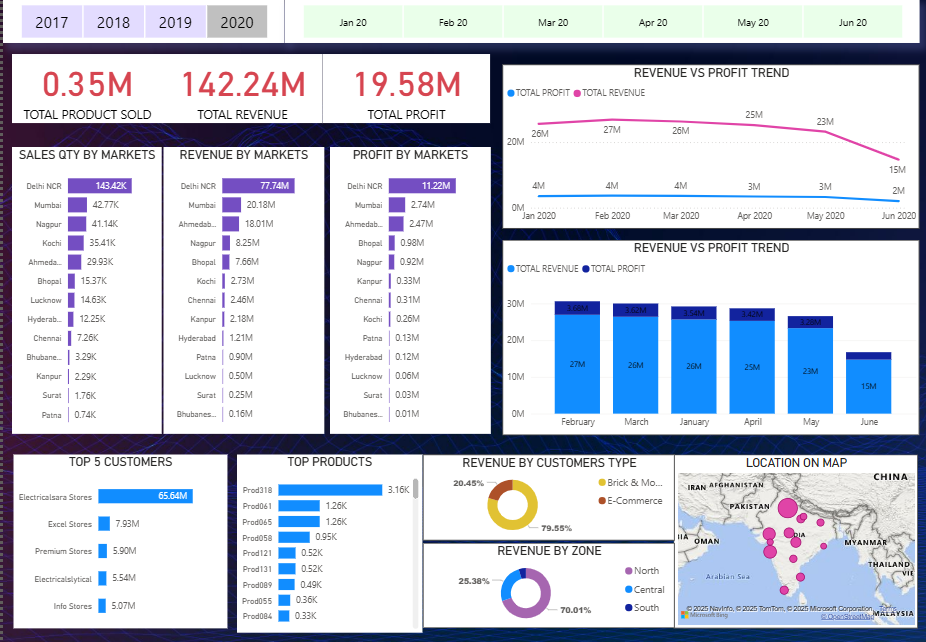

This screenshot's page, from the dashboard's own definition file:
{"tool":"powerbi","page":{"name":"Page 1","canvas":[1280,900],"ordinal":0},"visuals":[{"type":"card","fields":{"Values":["transactions_all.TOTAL PRODUCT SOLD"]},"box":[13,87.2,207.5,95.2],"z":0},{"type":"card","fields":{"Values":["transactions_all.TOTAL REVENUE"]},"box":[220.5,87.2,221.5,95.2],"z":1000},{"type":"card","fields":{"Values":["transactions_all.TOTAL PROFIT"]},"box":[442,87.2,231.5,95.2],"z":2000},{"type":"slicer","fields":{"Values":["transactions_all.year"]},"box":[0,13,388.9,59.1],"z":3000},{"type":"slicer","fields":{"Values":["transactions_all.cy_date"]},"box":[388.9,13,876.1,59.1],"z":4000},{"type":"barChart","title":"REVENUE BY MARKETS","fields":{"Category":["transactions_all.market_name"],"Y":["transactions_all.TOTAL REVENUE"]},"box":[220.8,215.4,221.8,395.9],"z":5000},{"type":"barChart","title":"SALES QTY BY MARKETS","fields":{"Category":["transactions_all.market_name"],"Y":["transactions_all.sales_qty"]},"box":[12.7,215.4,207,395.9],"z":6000},{"type":"barChart","title":"PROFIT BY MARKETS","fields":{"Category":["transactions_all.market_name"],"Y":["transactions_all.TOTAL PROFIT"]},"box":[451.1,215.4,221.8,395.9],"z":7000},{"type":"map","title":"LOCATION ON MAP","fields":{"Size":["transactions_all.sales_amount"],"Category":["transactions_all.market_name"]},"box":[926.6,639.9,337.6,240.2],"z":8000},{"type":"barChart","title":"TOP 5 CUSTOMERS","fields":{"Category":["transactions_all.custmer_name"],"Y":["transactions_all.TOTAL REVENUE"]},"box":[14.4,639.9,295.6,240.2],"z":9000},{"type":"barChart","title":"TOP PRODUCTS","fields":{"Category":["transactions_all.product_code"],"Y":["transactions_all.sales_qty"]},"box":[323.2,639.9,255.7,245.8],"z":10000},{"type":"lineChart","title":"REVENUE VS PROFIT TREND","fields":{"Category":["transactions_all.cy_date"],"Y":["transactions_all.TOTAL PROFIT","transactions_all.TOTAL REVENUE"]},"box":[688.6,101.8,575.6,226.9],"z":11000},{"type":"donutChart","title":"REVENUE BY CUSTOMERS TYPE","fields":{"Y":["transactions_all.TOTAL REVENUE"],"Category":["transactions_all.customer_type"]},"box":[579,639.9,347.6,118.5],"z":12000},{"type":"donutChart","title":"REVENUE BY ZONE","fields":{"Y":["transactions_all.TOTAL REVENUE"],"Category":["transactions_all.zone"]},"box":[579,762.7,347.6,117.3],"z":13000},{"type":"columnChart","title":"REVENUE VS PROFIT TREND","fields":{"Category":["transactions_all.month_name"],"Y":["transactions_all.TOTAL REVENUE","transactions_all.TOTAL PROFIT"]},"box":[688.6,343.2,575.6,269],"z":14000}]}

Visuals, with their boxes in screenshot pixels (x1, y1, x2, y2), scaled from the page's 1280x900 canvas onto the 926x642 screenshot:
card - transactions_all.TOTAL PRODUCT SOLD: [x1=9, y1=62, x2=160, y2=130]
card - transactions_all.TOTAL REVENUE: [x1=160, y1=62, x2=320, y2=130]
card - transactions_all.TOTAL PROFIT: [x1=320, y1=62, x2=487, y2=130]
slicer - transactions_all.year: [x1=0, y1=9, x2=281, y2=51]
slicer - transactions_all.cy_date: [x1=281, y1=9, x2=915, y2=51]
"REVENUE BY MARKETS" barChart: [x1=160, y1=154, x2=320, y2=436]
"SALES QTY BY MARKETS" barChart: [x1=9, y1=154, x2=159, y2=436]
"PROFIT BY MARKETS" barChart: [x1=326, y1=154, x2=487, y2=436]
"LOCATION ON MAP" map: [x1=670, y1=456, x2=915, y2=628]
"TOP 5 CUSTOMERS" barChart: [x1=10, y1=456, x2=224, y2=628]
"TOP PRODUCTS" barChart: [x1=234, y1=456, x2=419, y2=632]
"REVENUE VS PROFIT TREND" lineChart: [x1=498, y1=73, x2=915, y2=234]
"REVENUE BY CUSTOMERS TYPE" donutChart: [x1=419, y1=456, x2=670, y2=541]
"REVENUE BY ZONE" donutChart: [x1=419, y1=544, x2=670, y2=628]
"REVENUE VS PROFIT TREND" columnChart: [x1=498, y1=245, x2=915, y2=437]
